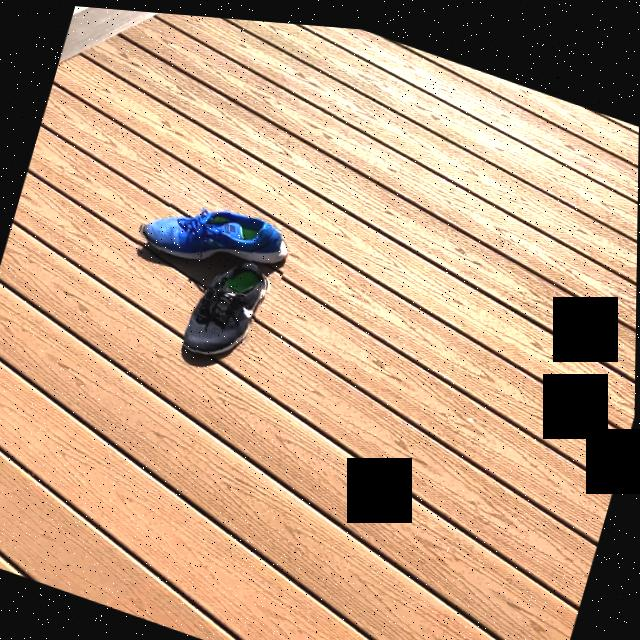shoe: (141, 207, 287, 270), (183, 264, 265, 354)
